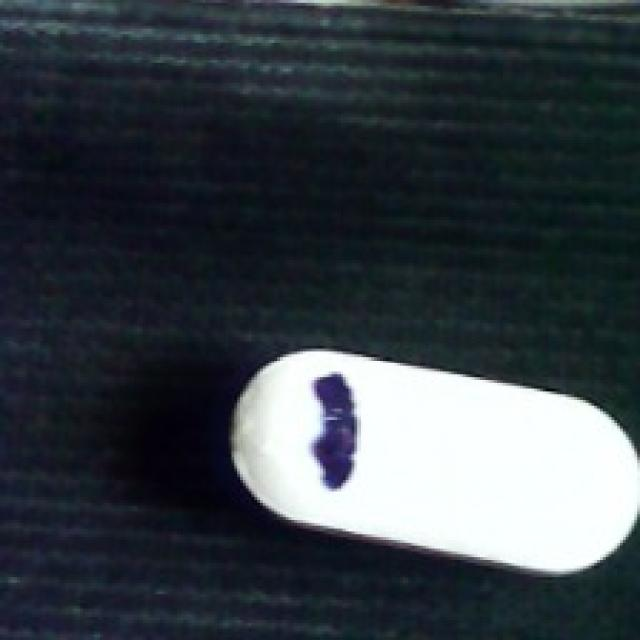defected: (223, 346, 637, 571)
